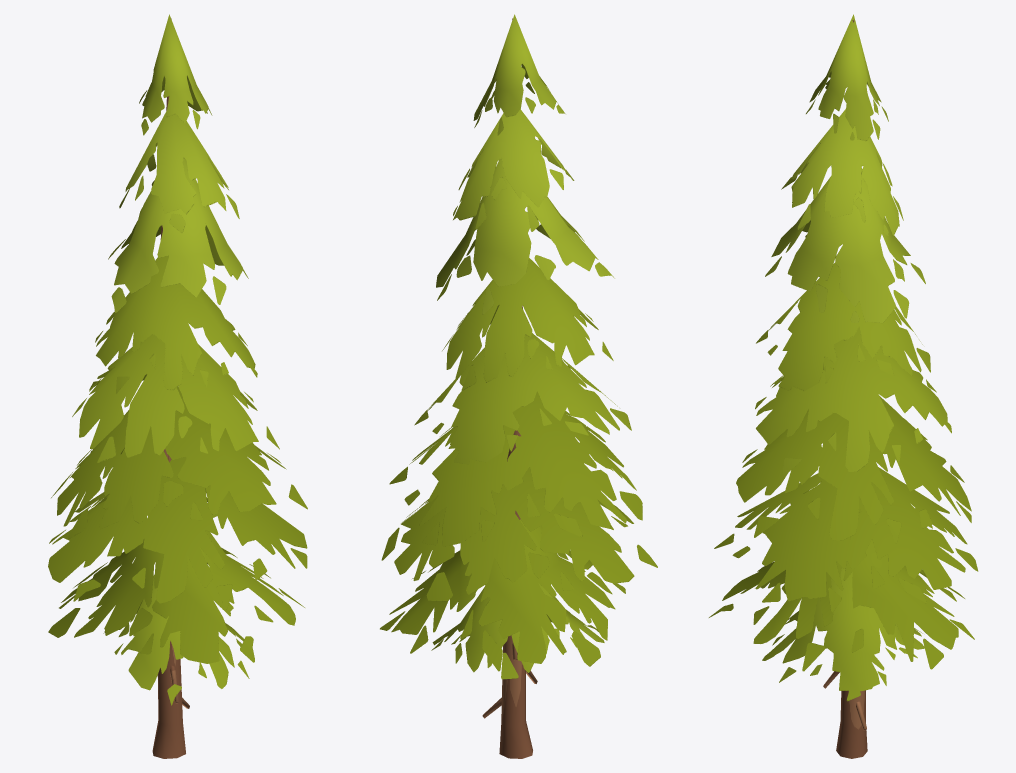
File: lg_full_tree_1.fbx
The picture shows the model from 3 angles, left to right: view 1: azimuth 30°, elevation 25°; view 2: azimuth 150°, elevation 25°; view 3: azimuth 270°, elevation 25°; orthographic projection.
Visible parts, largest first — view 1: lg_full_tree_1_LOD00; view 2: lg_full_tree_1_LOD00; view 3: lg_full_tree_1_LOD00.
Part boxes in pixels (<box>): lg_full_tree_1_LOD00: <box>48,14,307,758</box>; lg_full_tree_1_LOD00: <box>380,14,657,758</box>; lg_full_tree_1_LOD00: <box>709,14,978,758</box>.
Size of what is drawn, in the model's own units: 5.59 by 15.18 by 5.65.
